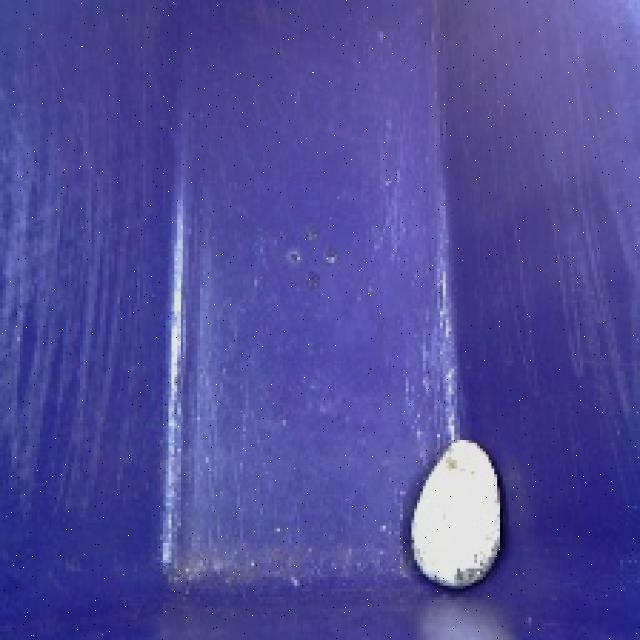cobbles: (395, 425, 516, 603)
